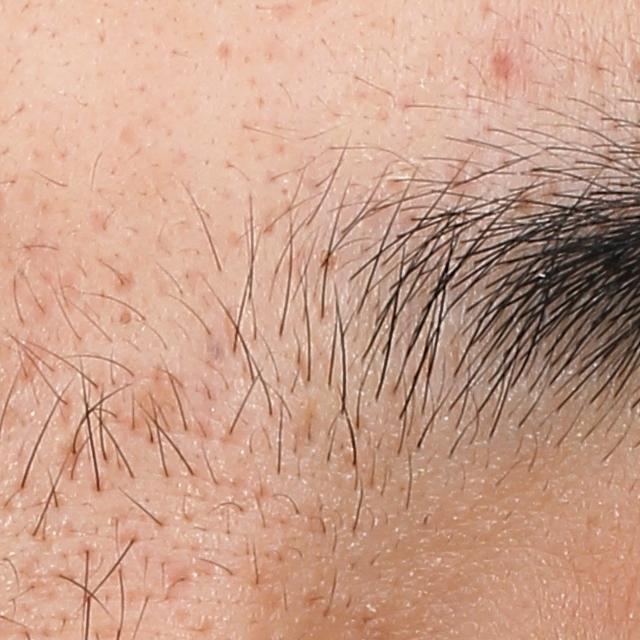atrophic_scar: (483, 43, 522, 87), (91, 207, 121, 236), (268, 2, 302, 24), (217, 36, 239, 63), (116, 124, 141, 145)
